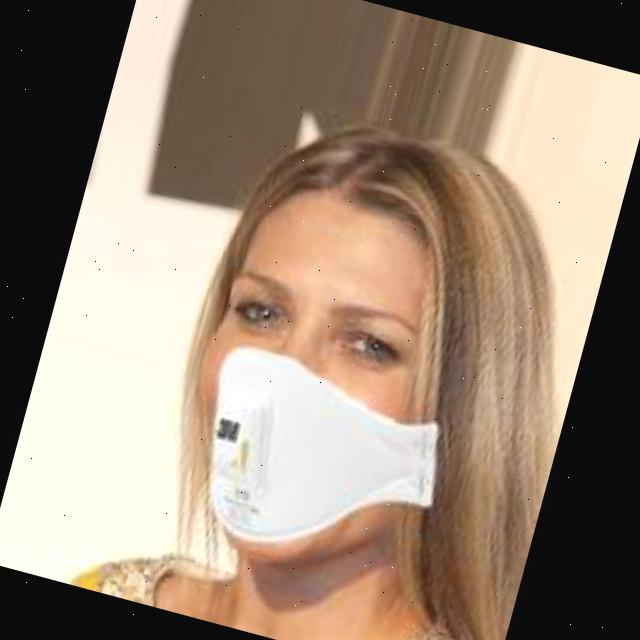suspicion: (118, 145, 538, 620)
